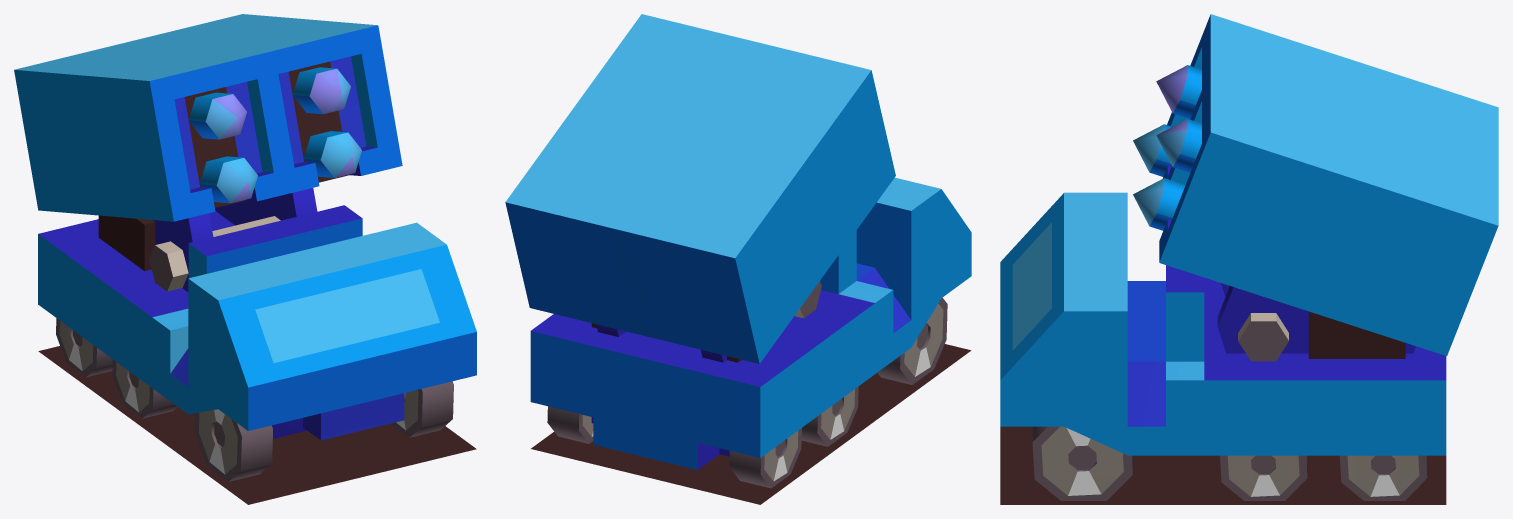
The model's file is RocketMesh.BlueMoon.glb.
3 renders of one model, left to right at view 1: azimuth 30°, elevation 25°; view 2: azimuth 150°, elevation 25°; view 3: azimuth 270°, elevation 25°, orthographic. The views are drawn at different scales.
Visible parts, largest first — view 1: RocketMesh.BlueMoon; view 2: RocketMesh.BlueMoon; view 3: RocketMesh.BlueMoon.
Part boxes in pixels (<box>): RocketMesh.BlueMoon: <box>14,14,476,504</box>; RocketMesh.BlueMoon: <box>505,14,971,504</box>; RocketMesh.BlueMoon: <box>1000,14,1498,504</box>.
Size of the model in its own units: 1.1 by 1.63 by 1.96.
Materials: 1 (1 with a texture image).
